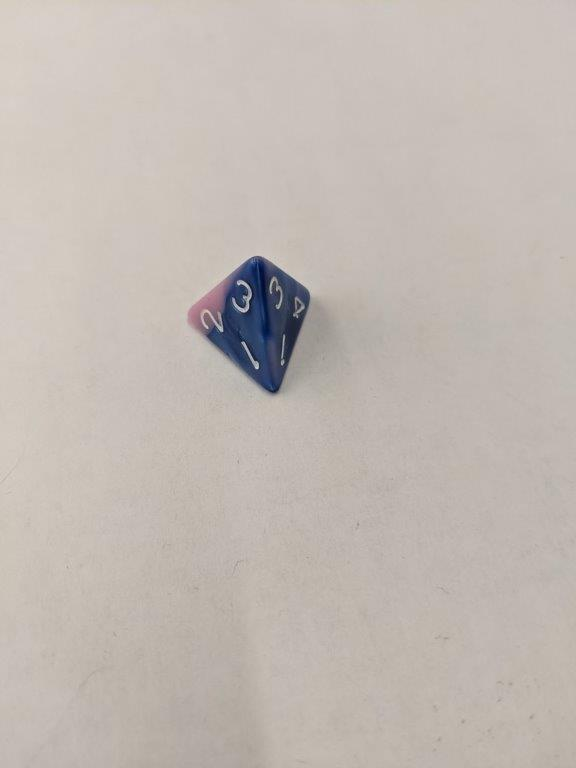d4-3: (188, 255, 314, 395)
